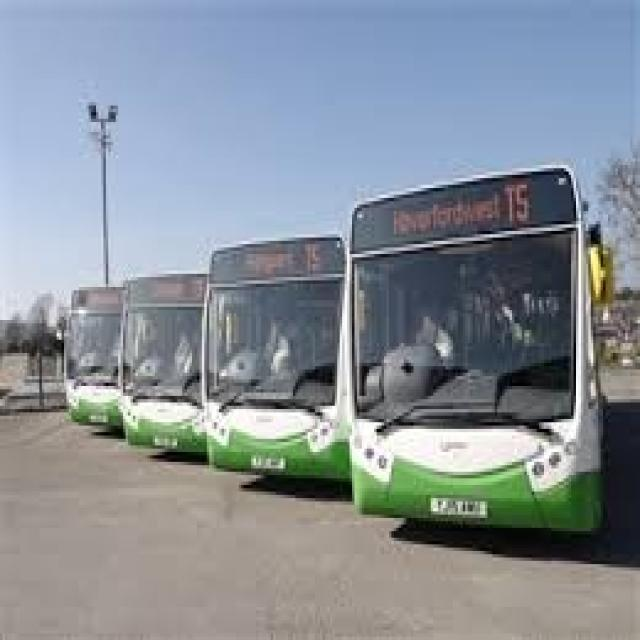bus: (350, 169, 604, 529), (206, 225, 350, 482), (117, 274, 207, 461), (65, 286, 127, 430)
